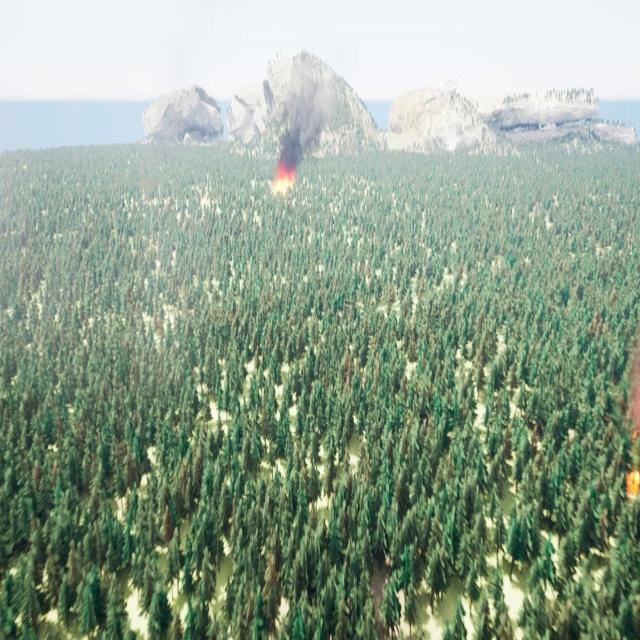fire: (624, 429, 640, 497), (268, 158, 296, 192)
smoke: (278, 57, 336, 161), (626, 345, 640, 420)
